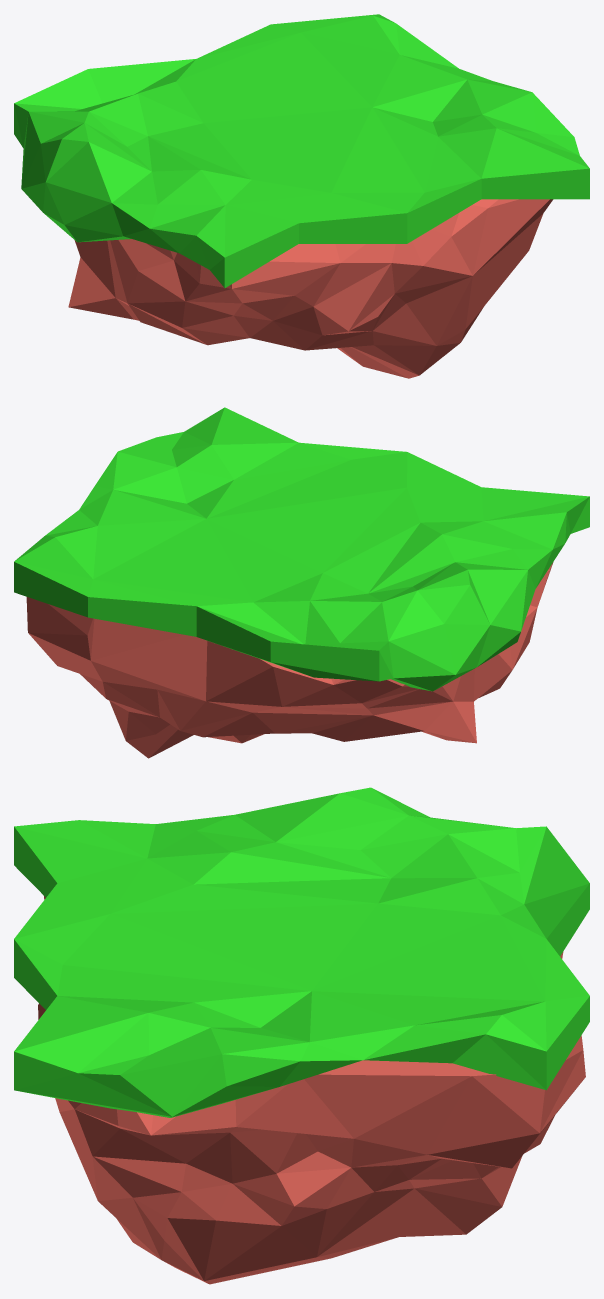
Rendered from Area_Base5.fbx.
3 renders of one model, top to bottom at view 1: azimuth 30°, elevation 25°; view 2: azimuth 150°, elevation 25°; view 3: azimuth 270°, elevation 25°, orthographic. The views are drawn at different scales.
Visible parts, largest first — view 1: Area5_Top, Area5_Base; view 2: Area5_Top, Area5_Base; view 3: Area5_Top, Area5_Base.
Boxes of the visible parts, x1,y1,x2,y2 form: Area5_Top: (14, 14, 589, 287); Area5_Base: (68, 199, 553, 378); Area5_Top: (14, 407, 589, 691); Area5_Base: (26, 562, 553, 758); Area5_Top: (14, 787, 589, 1117); Area5_Base: (38, 896, 585, 1284).
Size of the model in its own units: 245 by 132 by 216.
